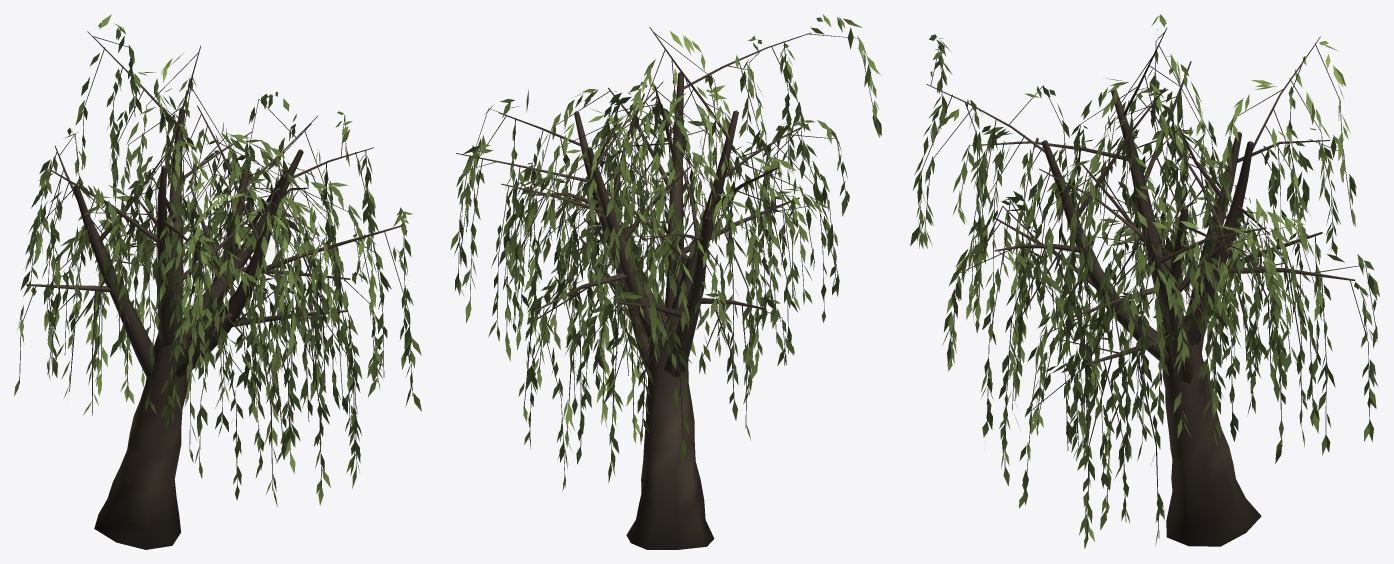
Rendered from willow-b.lod0.glb.
3 renders of one model, left to right at view 1: azimuth 30°, elevation 25°; view 2: azimuth 150°, elevation 25°; view 3: azimuth 270°, elevation 25°, orthographic. The views are drawn at different scales.
Size of the model in its own units: 4.63 by 6.43 by 5.22.
